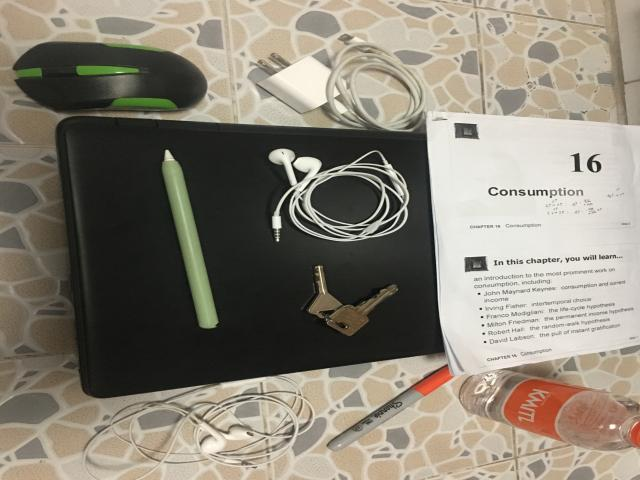Keys: (307, 265, 398, 336)
Mouse: (13, 41, 207, 111)
Pen: (327, 366, 453, 451)
bottle: (460, 369, 640, 451)
paper: (427, 112, 638, 374)
wire: (83, 376, 315, 480), (257, 34, 427, 131), (268, 148, 410, 242)
